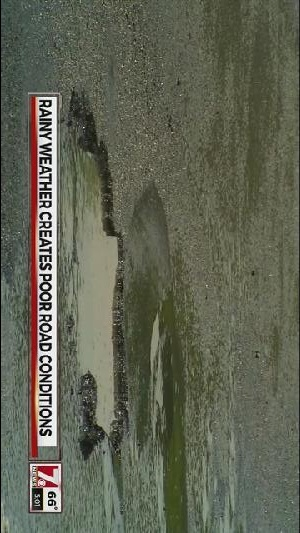pothole: (58, 92, 129, 462)
